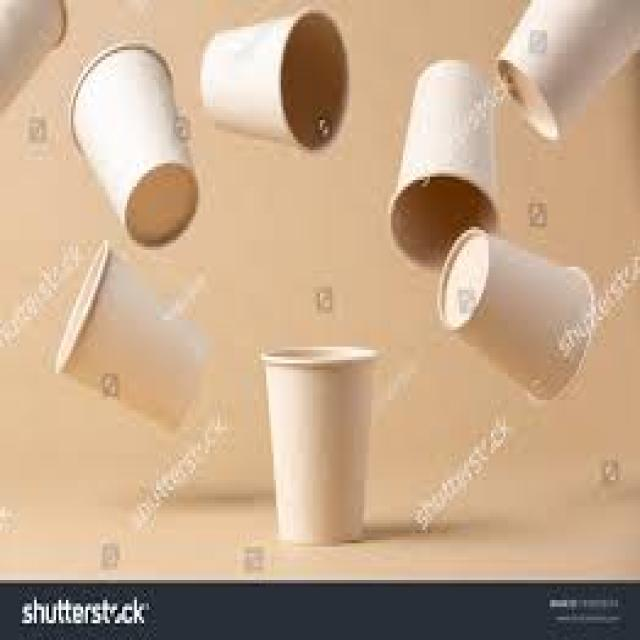PaperCardboard: (59, 243, 206, 428), (437, 226, 591, 393), (71, 48, 199, 244), (259, 344, 378, 545), (200, 3, 355, 151), (389, 62, 501, 266), (503, 0, 640, 132), (0, 0, 67, 116)
